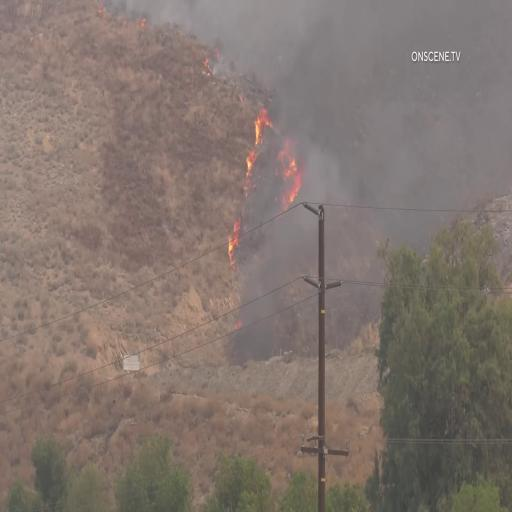fire: (311, 36, 388, 187), (222, 106, 274, 271), (274, 143, 312, 221)
